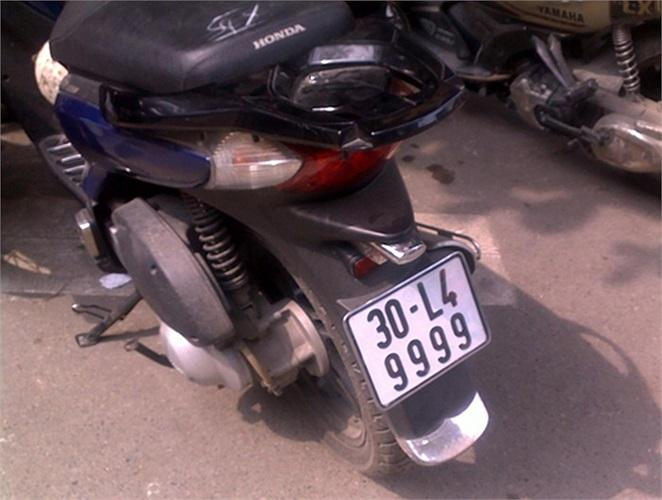numplate: (342, 249, 491, 408)
